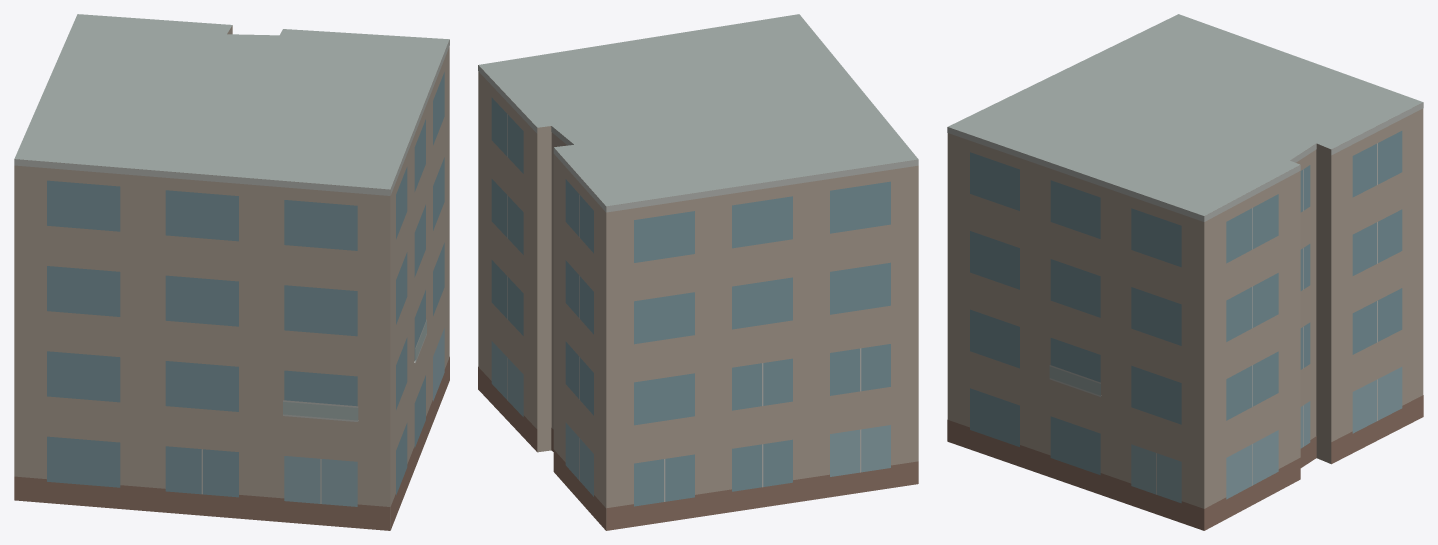
The model's file is survey-upis-32906196.glb.
3 renders of one model, left to right at view 1: azimuth 30°, elevation 25°; view 2: azimuth 150°, elevation 25°; view 3: azimuth 270°, elevation 25°, orthographic. The views are drawn at different scales.
Visible parts, largest first — view 1: survey-upis-32906196.tmp; view 2: survey-upis-32906196.tmp; view 3: survey-upis-32906196.tmp.
Boxes of the visible parts, x1,y1,x2,y2 form: survey-upis-32906196.tmp: [14, 14, 449, 530]; survey-upis-32906196.tmp: [478, 14, 918, 530]; survey-upis-32906196.tmp: [947, 14, 1423, 530].
Size of the model in its own units: 17.64 by 12.8 by 17.55.
